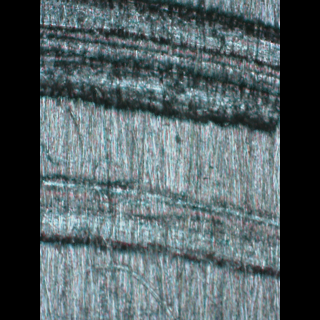d: (41, 0, 280, 134), (40, 173, 275, 281)
